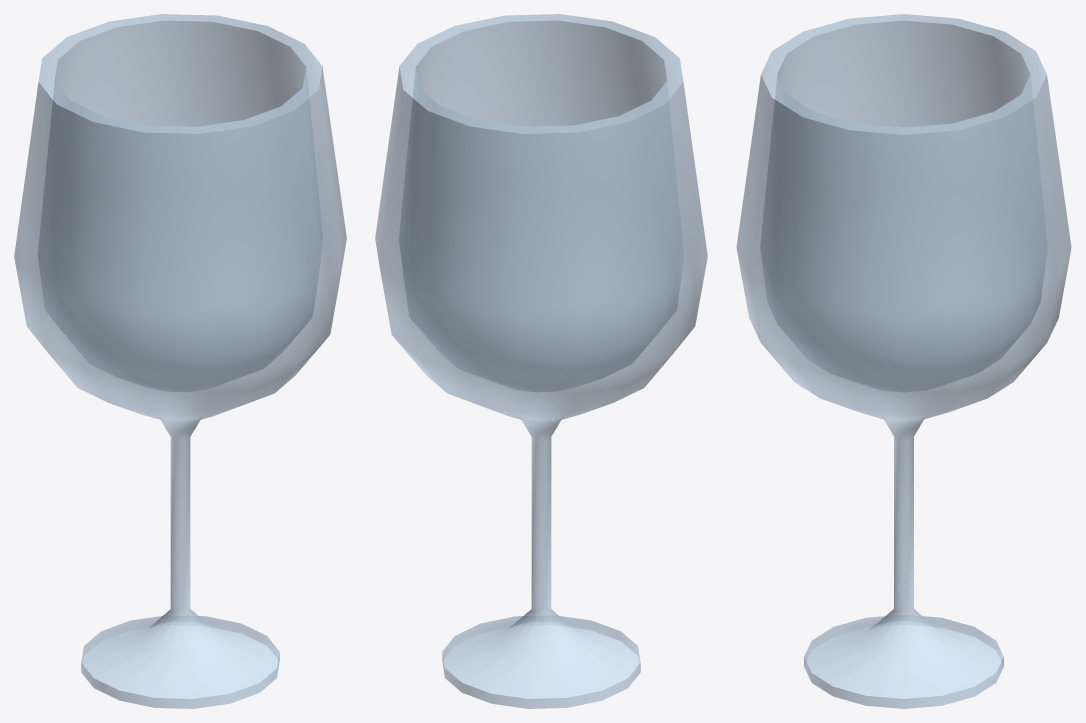
Rendered from WineGlass.FBX.
3 views of the same model, side by side, from view 1: azimuth 30°, elevation 25°; view 2: azimuth 150°, elevation 25°; view 3: azimuth 270°, elevation 25° (orthographic).
Visible parts, largest first — view 1: WineGlass; view 2: WineGlass; view 3: WineGlass.
Boxes of the visible parts, box(x1,y1,x2,y2) form: WineGlass: box(14, 14, 346, 708); WineGlass: box(375, 14, 707, 708); WineGlass: box(736, 14, 1071, 708).
Bounding box in the file's own units: 34.23 × 66.8 × 34.23.
